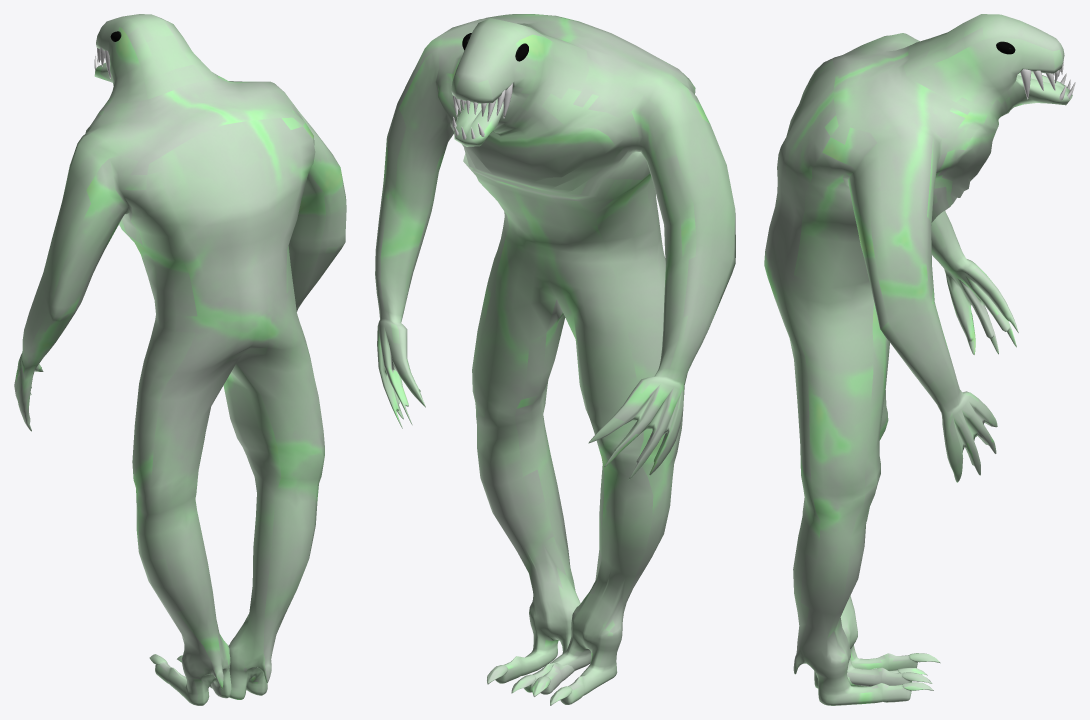
The model's file is Berserkerandar.0010.obj.
3 renders of one model, left to right at view 1: azimuth 30°, elevation 25°; view 2: azimuth 150°, elevation 25°; view 3: azimuth 270°, elevation 25°, orthographic. The views are drawn at different scales.
Parts seen in each view (by area): view 1: polySurface27; view 2: polySurface27; view 3: polySurface27.
Boxes of the visible parts, box(x1,y1,x2,y2) form: polySurface27: box(14, 14, 346, 705); polySurface27: box(375, 14, 735, 705); polySurface27: box(764, 14, 1075, 705).
Bounding box in the file's own units: 11.76 × 23.65 × 10.04.
1 material, 1 textured.
